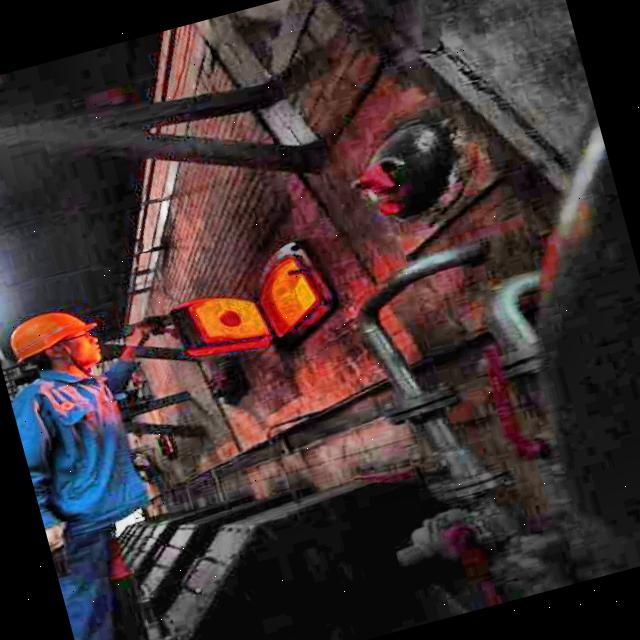helmet: (0, 298, 110, 391)
